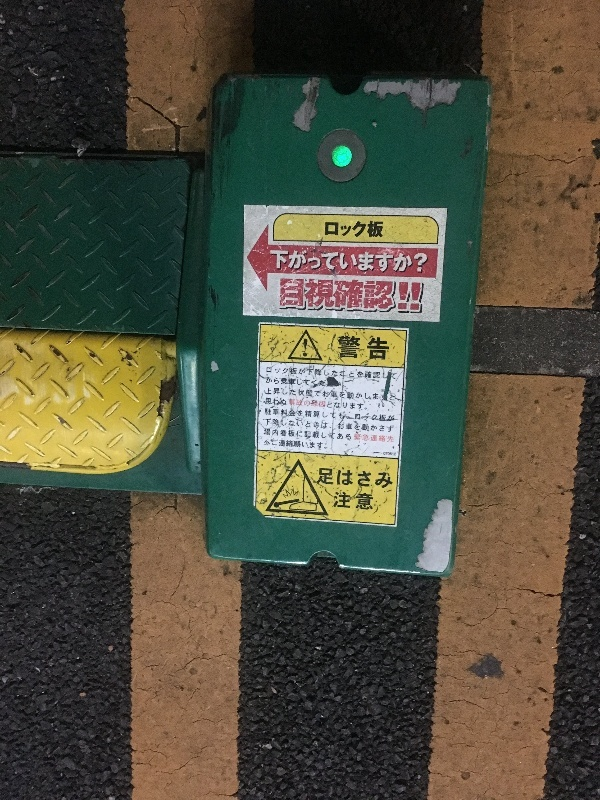text: (289, 278, 304, 312), (305, 278, 320, 312), (321, 278, 336, 312), (337, 278, 352, 312), (353, 278, 368, 312), (369, 278, 384, 312), (385, 278, 400, 312), (401, 278, 416, 312), (353, 335, 368, 361), (369, 335, 384, 361), (273, 249, 288, 274), (289, 249, 304, 274), (305, 249, 320, 274), (321, 249, 336, 274), (337, 249, 352, 274), (353, 249, 368, 274), (369, 249, 384, 274), (385, 249, 400, 274), (401, 249, 416, 274), (338, 335, 352, 361), (321, 468, 336, 491), (337, 468, 352, 491), (353, 468, 368, 491), (369, 468, 384, 491), (337, 492, 352, 512), (353, 492, 368, 512), (337, 221, 352, 240), (353, 221, 368, 240), (369, 221, 384, 240), (417, 249, 428, 274), (280, 278, 288, 312), (273, 388, 288, 403), (289, 388, 304, 403), (305, 388, 320, 403), (321, 388, 336, 403), (337, 388, 352, 403), (353, 388, 368, 403), (369, 388, 384, 403), (273, 367, 288, 381), (289, 367, 304, 381), (305, 367, 320, 381), (321, 367, 336, 381), (337, 367, 352, 381), (353, 367, 368, 381), (369, 367, 384, 381), (325, 221, 336, 240), (417, 278, 423, 312), (353, 422, 368, 435), (369, 422, 384, 435), (273, 428, 288, 441), (289, 428, 304, 441), (305, 428, 320, 441), (321, 428, 336, 441), (337, 428, 352, 441), (385, 468, 393, 491), (338, 422, 352, 435), (273, 376, 288, 388), (289, 376, 304, 388), (305, 376, 320, 388), (273, 408, 288, 420), (289, 408, 304, 420), (305, 408, 320, 420), (321, 408, 336, 420), (385, 367, 397, 381), (337, 401, 352, 412), (353, 401, 368, 412), (273, 419, 288, 430), (289, 419, 304, 430), (305, 419, 320, 430), (273, 439, 288, 450), (289, 439, 304, 450), (305, 439, 320, 450), (385, 388, 395, 403), (305, 398, 320, 408), (369, 434, 384, 444), (273, 397, 287, 407), (290, 398, 304, 408), (369, 413, 384, 422), (385, 335, 390, 361), (355, 434, 368, 444), (321, 419, 332, 430), (369, 492, 375, 512), (355, 413, 368, 422), (385, 422, 394, 435), (337, 408, 345, 420), (265, 428, 272, 441), (266, 388, 272, 403), (385, 413, 395, 422), (385, 434, 394, 444), (328, 401, 336, 412), (265, 408, 272, 420), (265, 419, 272, 430), (265, 439, 272, 450), (321, 376, 327, 388), (267, 367, 272, 381), (321, 439, 327, 450), (267, 376, 272, 388), (266, 397, 272, 407), (270, 249, 272, 274), (321, 398, 326, 408), (334, 492, 336, 512), (319, 468, 320, 491)
